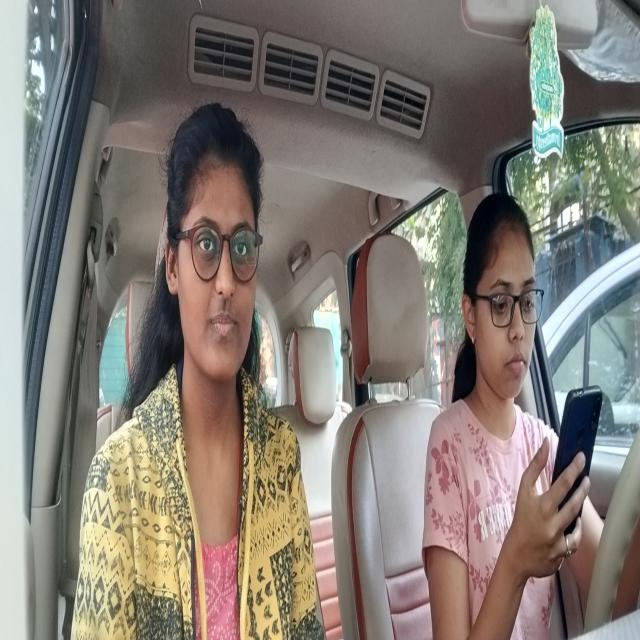mobile: (553, 378, 603, 563)
person: (165, 102, 265, 387), (460, 189, 547, 401)
